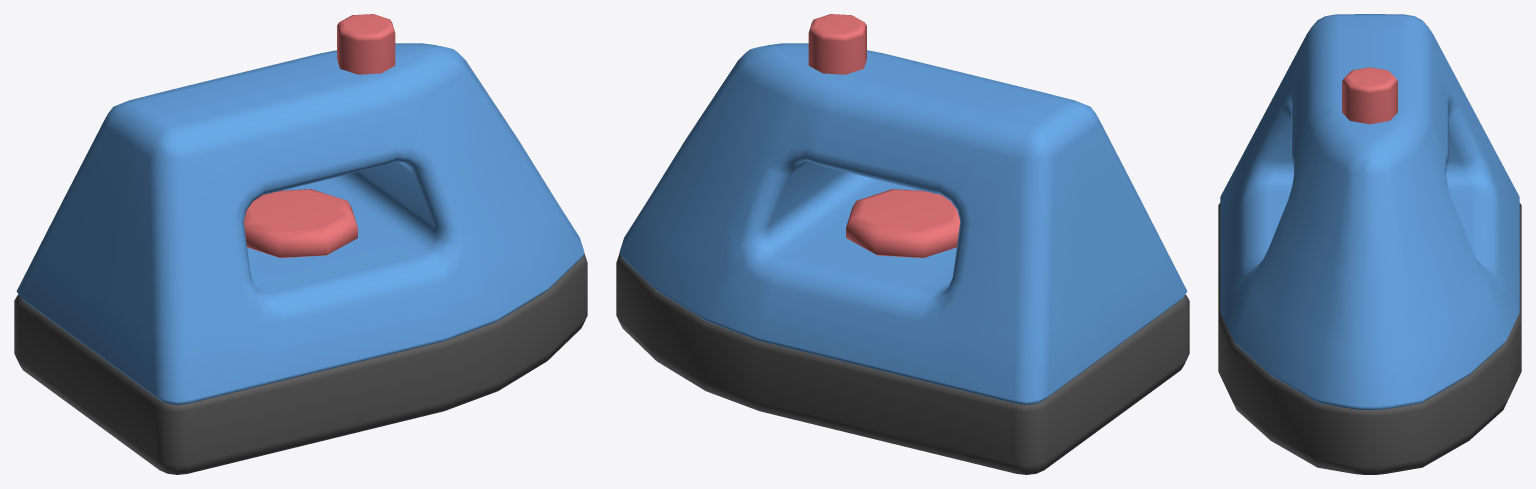
The picture shows the model from 3 angles, left to right: view 1: azimuth 30°, elevation 25°; view 2: azimuth 150°, elevation 25°; view 3: azimuth 270°, elevation 25°; orthographic projection. The views are drawn at different scales.
Parts seen in each view (by area): view 1: Iron_01; view 2: Iron_01; view 3: Iron_01.
Boxes of the visible parts, box(x1,y1,x2,y2) form: Iron_01: box(14, 14, 587, 474); Iron_01: box(616, 14, 1189, 474); Iron_01: box(1218, 14, 1521, 474).
Size of the model in its own units: 0.3544 by 0.2325 by 0.2057.
